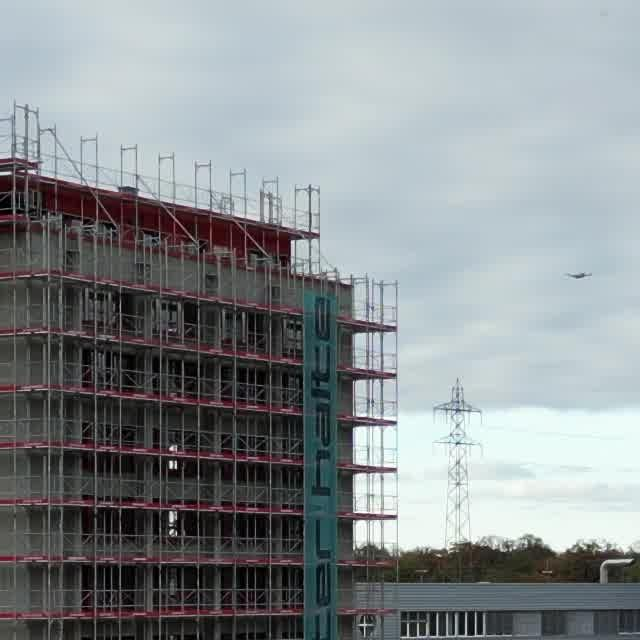Drohne: (567, 273, 591, 278)
